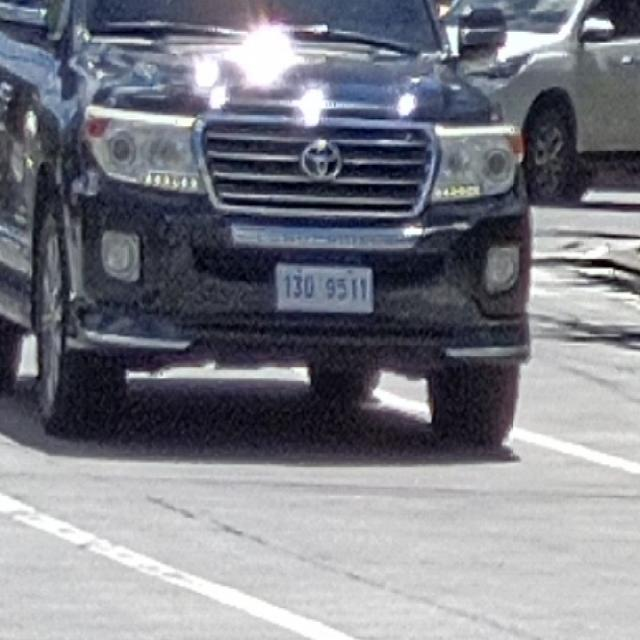LicensePlate: (268, 257, 398, 328)
